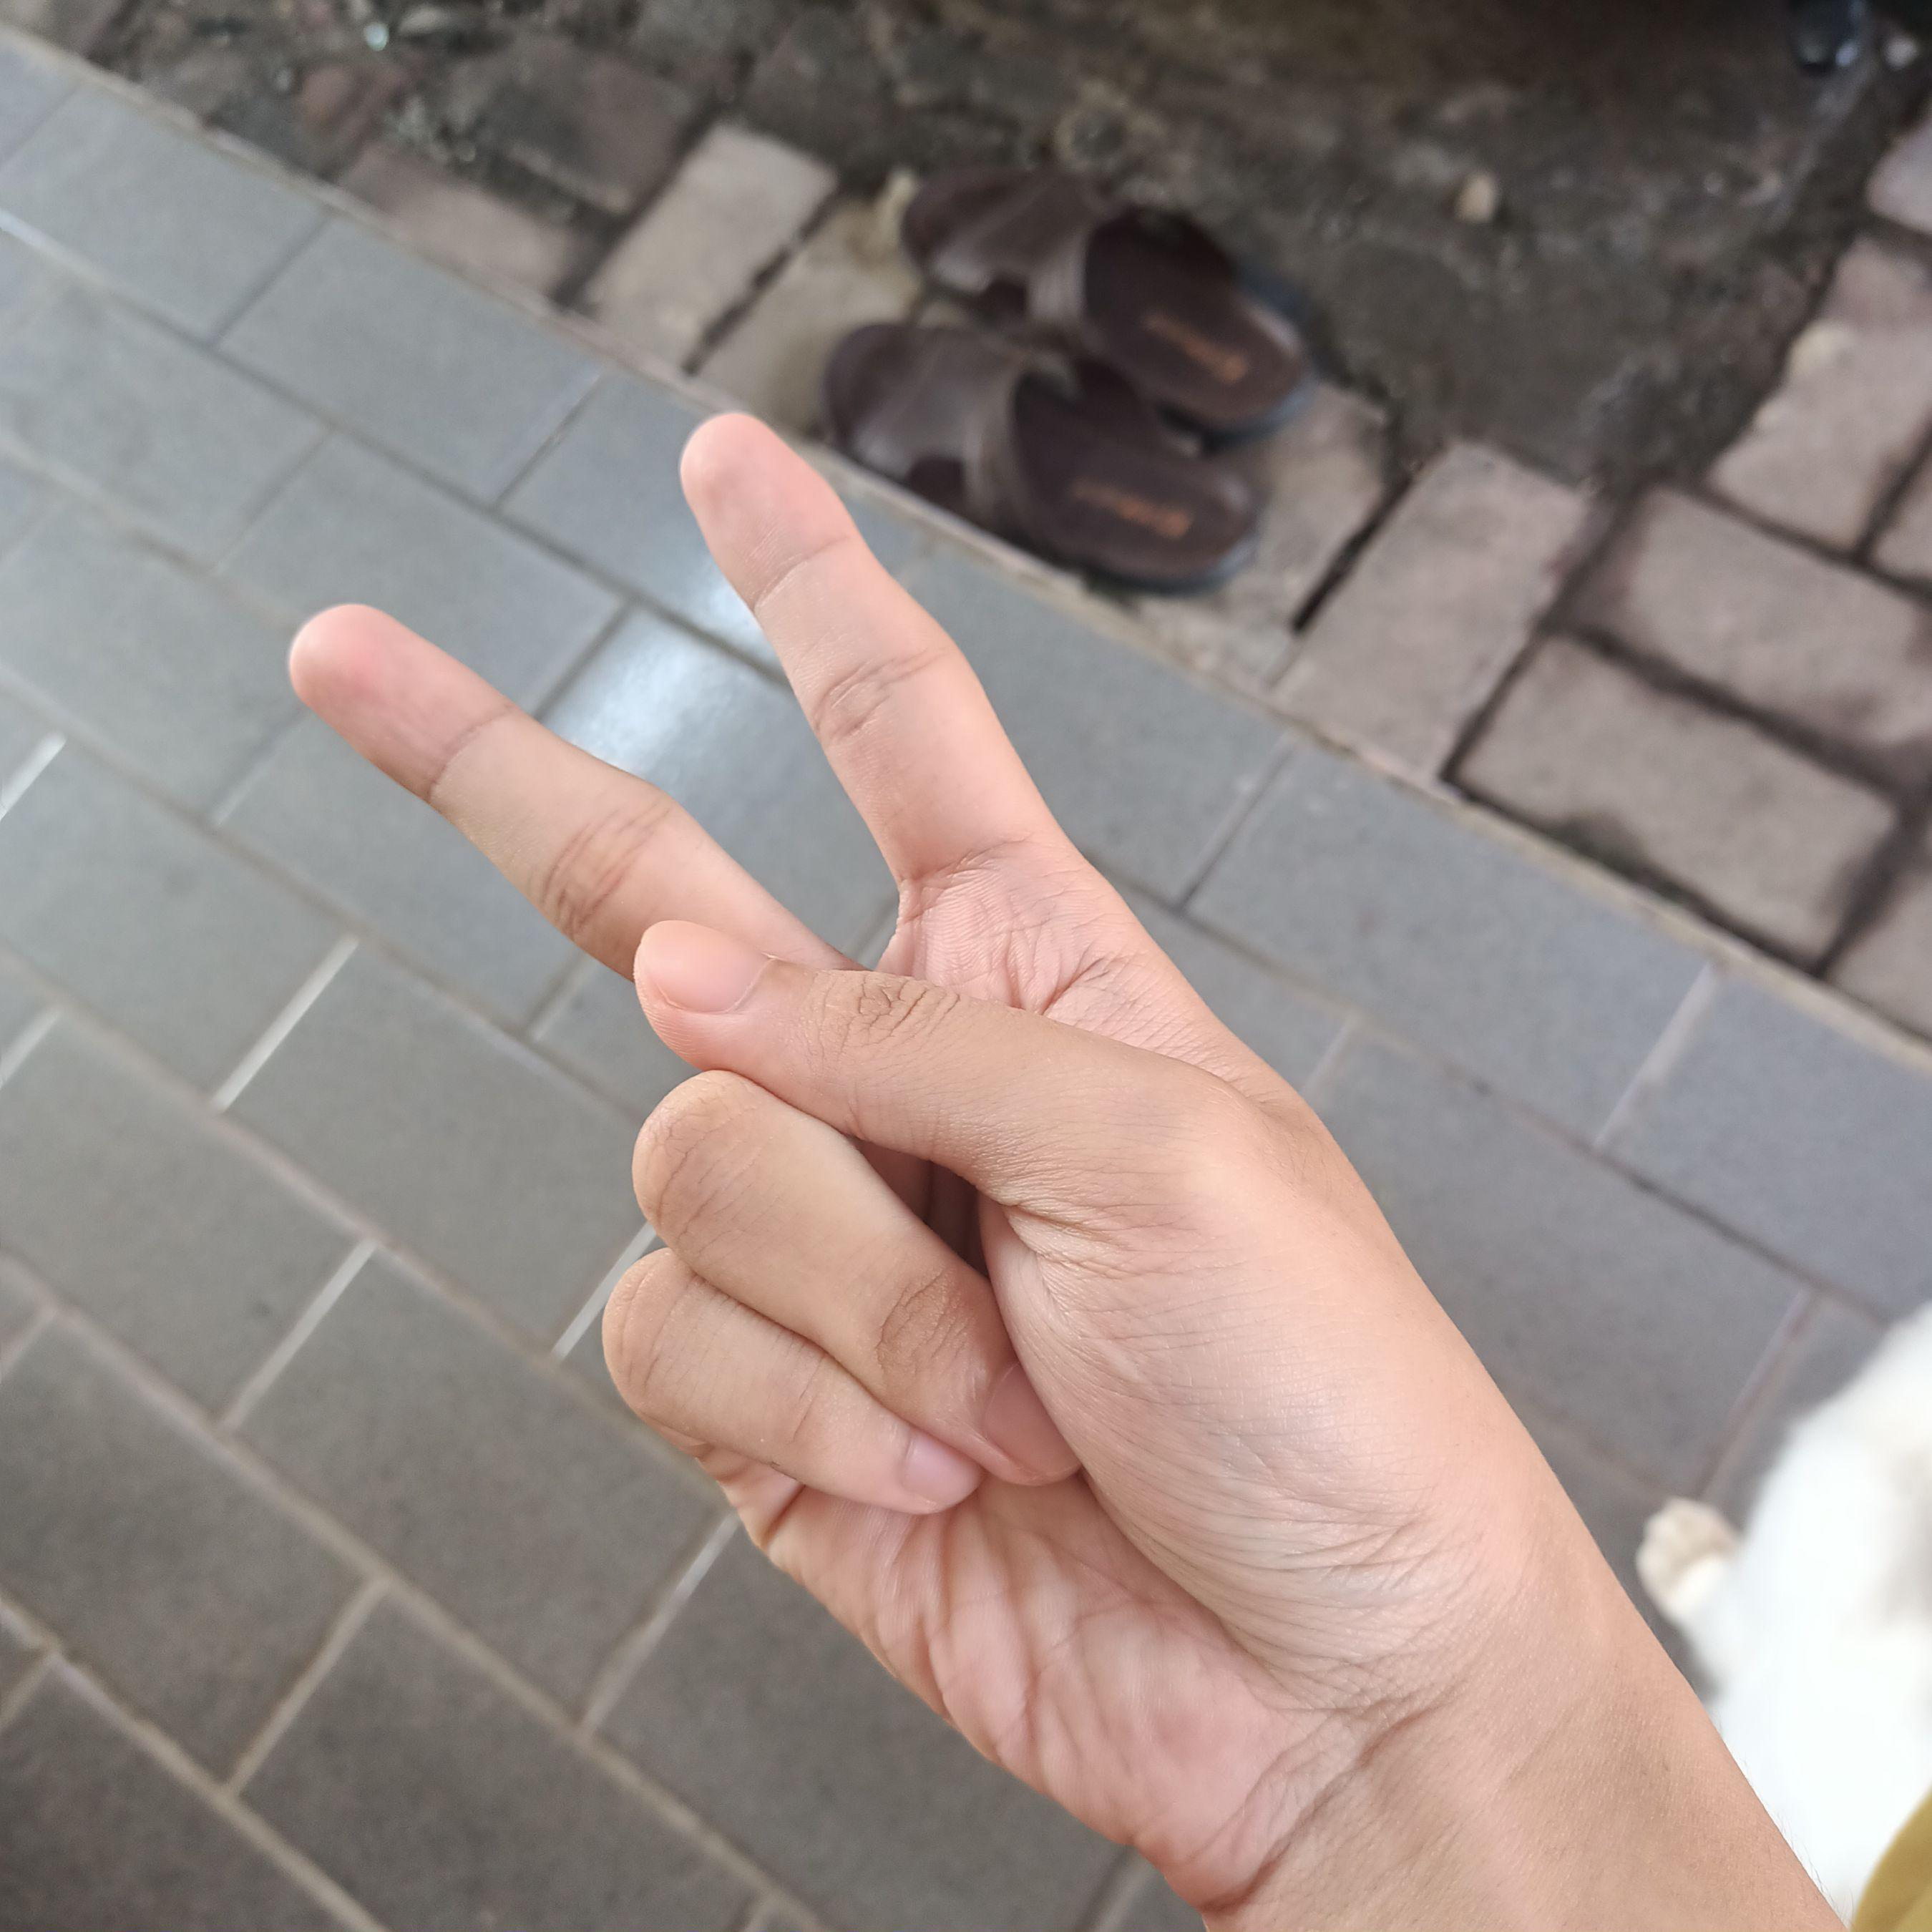scissors: (265, 384, 1603, 1927)
